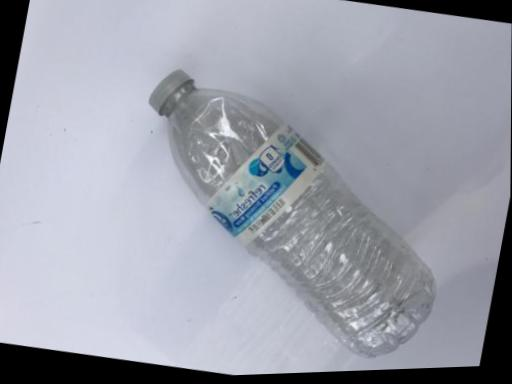plastic: (149, 69, 435, 356)
